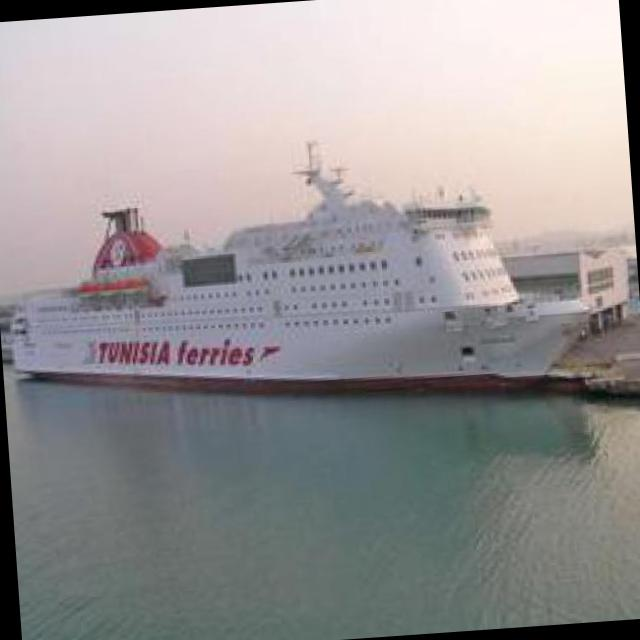boat: (12, 190, 570, 427)
